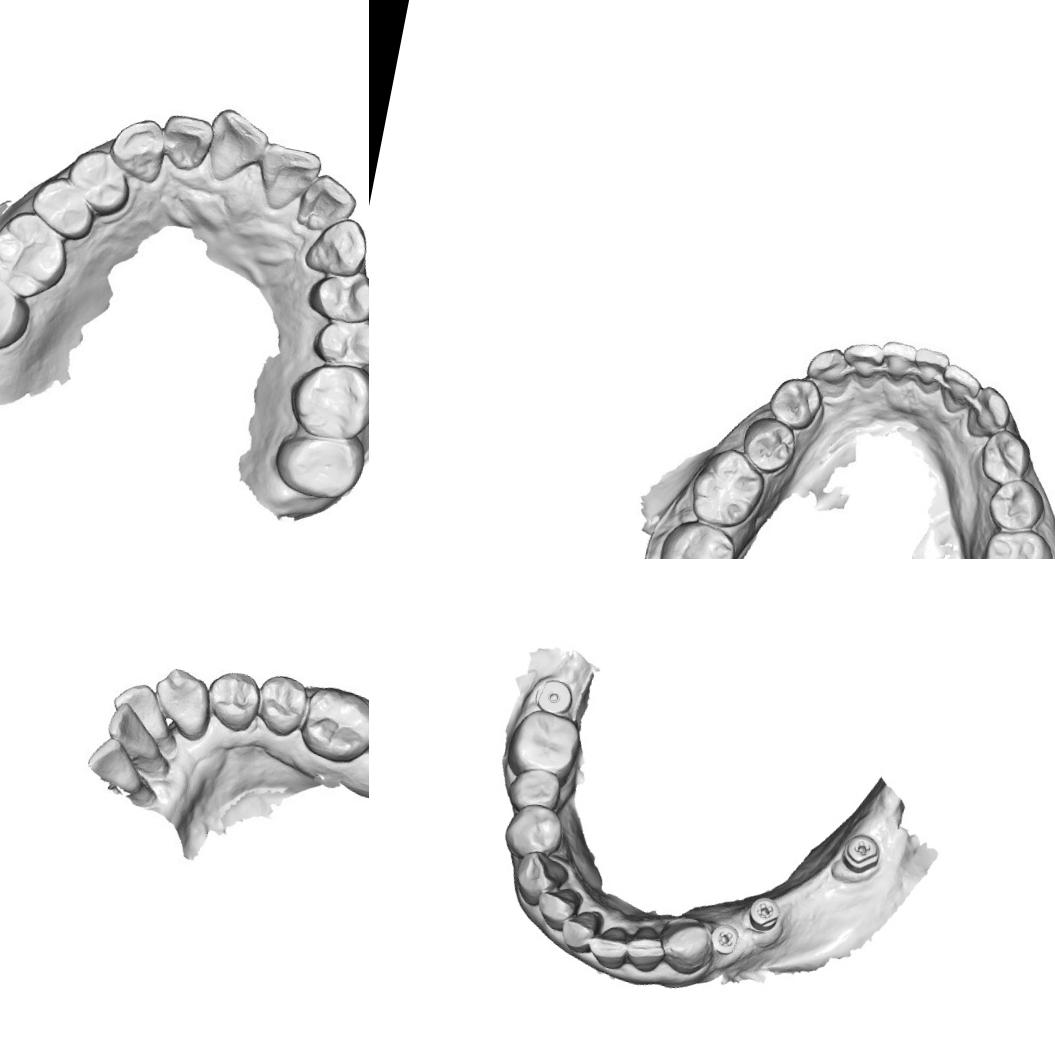canine: (102, 113, 173, 185), (149, 666, 217, 740), (501, 845, 573, 914), (653, 908, 717, 979), (303, 211, 369, 277), (804, 342, 856, 398), (964, 382, 1011, 438)
implant: (529, 672, 579, 718)
implant_plus: (835, 826, 887, 880), (742, 891, 788, 935), (707, 918, 744, 958)
incisor: (250, 138, 320, 210), (200, 109, 268, 182), (99, 698, 170, 767), (111, 680, 181, 742), (293, 171, 361, 232), (84, 739, 150, 798), (158, 114, 214, 172), (554, 901, 608, 959), (530, 878, 584, 936), (620, 920, 670, 976), (582, 920, 632, 972), (938, 364, 976, 413), (876, 336, 918, 380), (841, 343, 880, 386), (911, 346, 948, 384)
molar: (269, 424, 369, 507), (285, 356, 369, 445), (291, 680, 369, 771), (500, 704, 588, 782), (684, 448, 767, 528), (0, 212, 63, 290), (0, 262, 40, 357), (651, 518, 737, 559), (977, 529, 1055, 559)
premolar: (65, 147, 134, 215), (498, 798, 568, 864), (198, 664, 262, 734), (253, 671, 314, 741), (304, 264, 369, 323), (33, 178, 96, 237), (503, 762, 568, 818), (306, 313, 369, 370), (987, 476, 1046, 534), (740, 420, 800, 473), (976, 426, 1030, 484), (770, 371, 823, 430)
